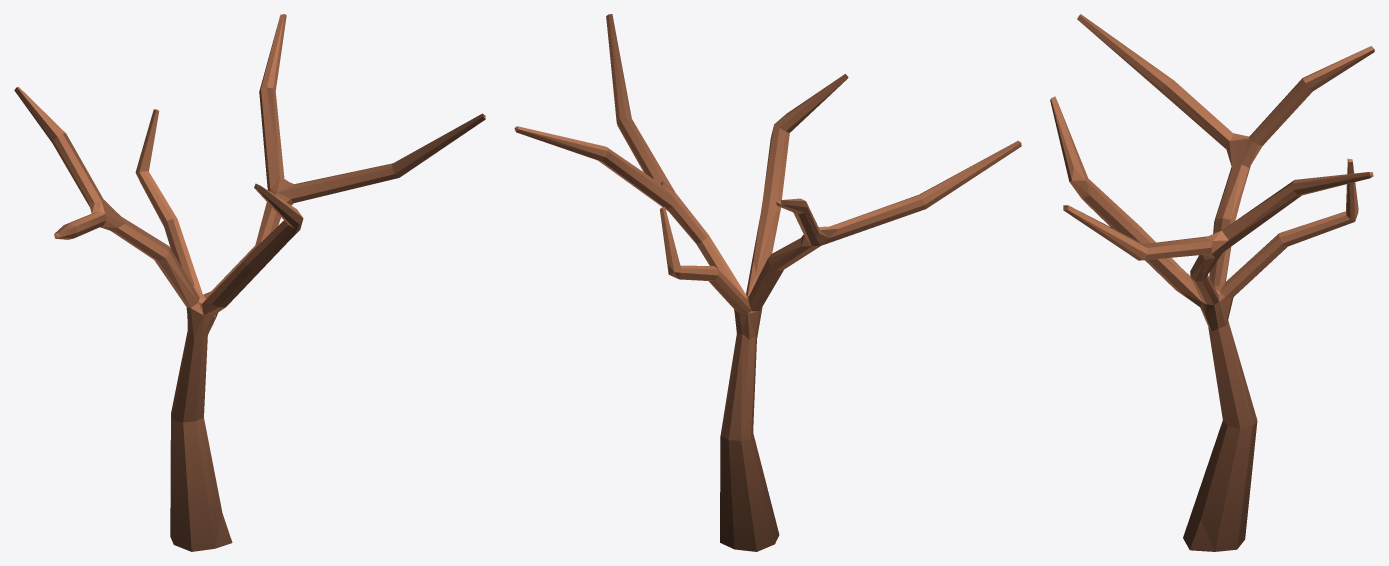
The model's file is Arvore final (2).fbx.
3 views of the same model, side by side, from view 1: azimuth 30°, elevation 25°; view 2: azimuth 150°, elevation 25°; view 3: azimuth 270°, elevation 25° (orthographic). The views are drawn at different scales.
Parts seen in each view (by area): view 1: Plane; view 2: Plane; view 3: Plane.
Part boxes in pixels (bbox=[...]): Plane: bbox=[14, 14, 485, 551]; Plane: bbox=[514, 14, 1021, 551]; Plane: bbox=[1050, 14, 1374, 551].
Bounding box in the file's own units: 422 × 410 × 268.
Materials: 1 (1 with a texture image).
